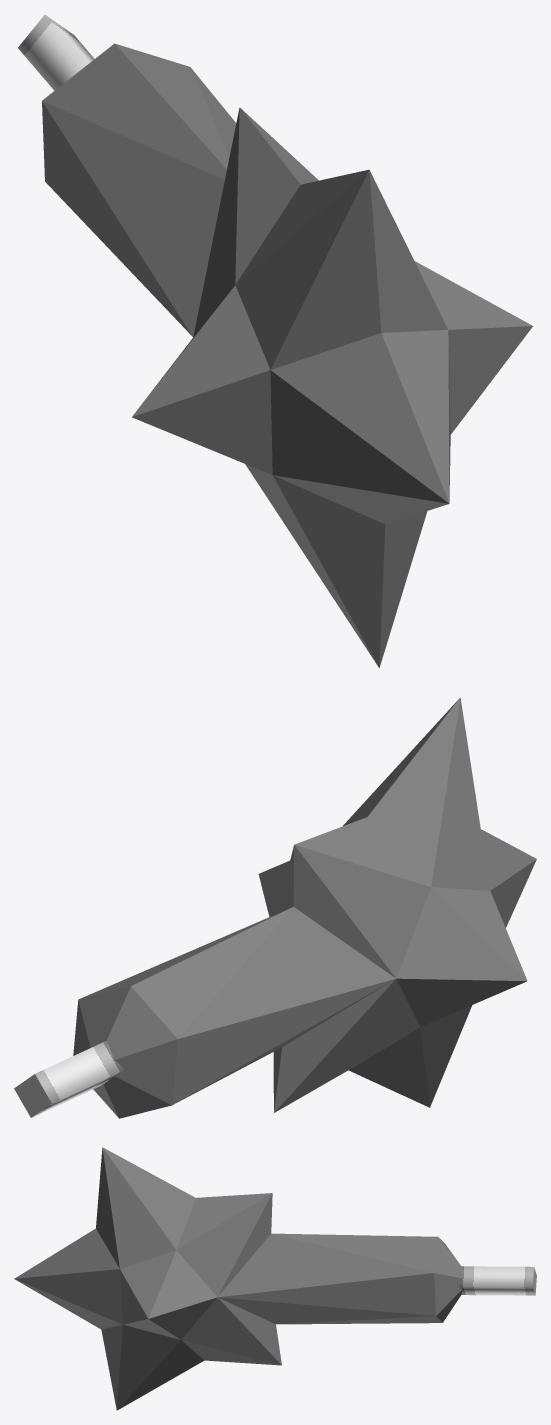
Rendered from sticklight_ylw.dae.
3 renders of one model, top to bottom at view 1: azimuth 30°, elevation 25°; view 2: azimuth 150°, elevation 25°; view 3: azimuth 270°, elevation 25°, orthographic. The views are drawn at different scales.
Visible parts, largest first — view 1: sticklight_ylw; view 2: sticklight_ylw; view 3: sticklight_ylw.
Boxes of the visible parts, x1,y1,x2,y2 form: sticklight_ylw: [18, 15, 532, 667]; sticklight_ylw: [14, 697, 536, 1118]; sticklight_ylw: [14, 1147, 536, 1410].
Bounding box in the file's own units: 9.04 × 11.99 × 22.06.
Materials: 2 (1 with a texture image).
